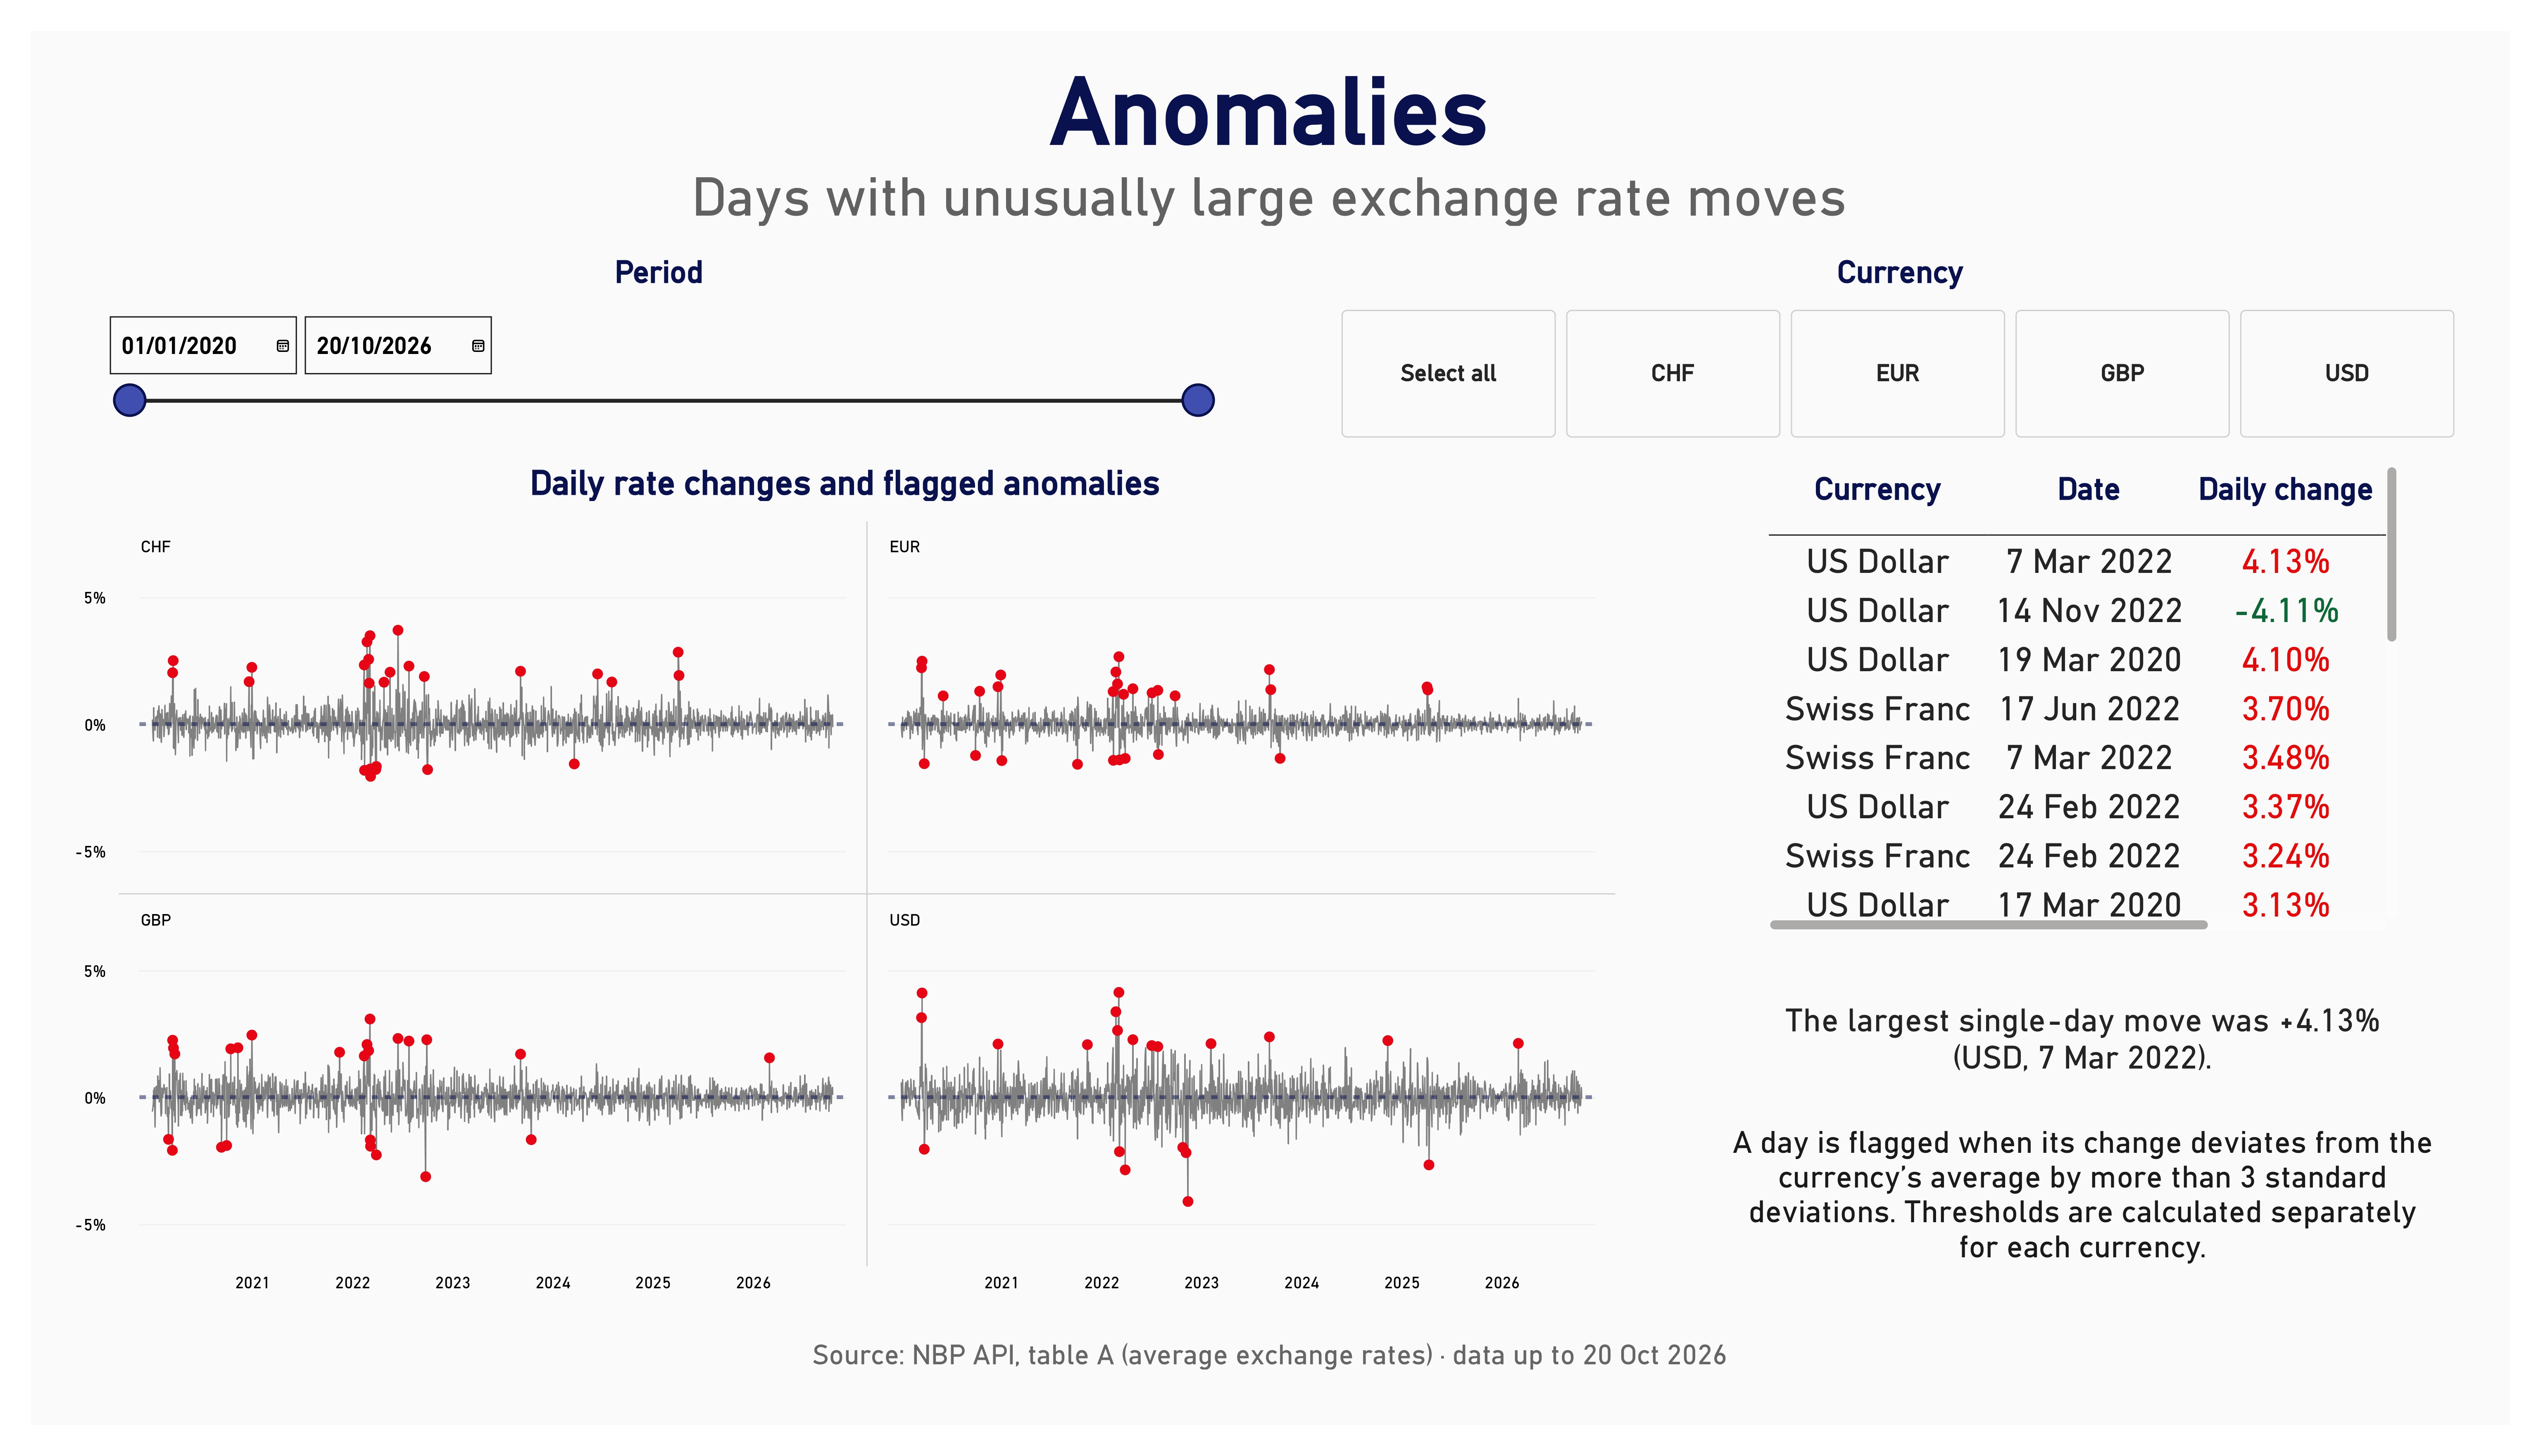

This screenshot's page, from the dashboard's own definition file:
{"tool":"powerbi","page":{"name":"Anomalies","canvas":[1920,1080],"ordinal":4},"visuals":[{"type":"lineChart","title":"Daily rate changes and flagged anomalies","fields":{"Category":["Calendar.Date"],"Rows":["Currencies.Currency"],"Y":[".Measures.Avg Daily Change",".Measures.Anomaly Change"]},"box":[17.3,320,1226.7,677.3],"z":0},{"type":"cardVisual","fields":{"Data":[".Measures.Source Line"]},"box":[470.7,997.3,977.3,54.7],"z":1000},{"type":"slicer","title":"Period","fields":{"Values":["Calendar.Date"]},"box":[53.3,173.3,866.7,141.3],"z":2000},{"type":"advancedSlicerVisual","title":"Currency","fields":{"Values":["Currencies.Currency"]},"box":[1014.7,173.3,866.7,141.3],"z":3000},{"type":"textbox","title":"Anomalies","box":[305.3,20,1308,141.3],"z":4000},{"type":"tableEx","fields":{"Values":["Currencies.CurrencyName","Calendar.Date",".Measures.Avg Daily Change",".Measures.Abs Daily Change"]},"box":[1329.3,322.7,520,390.7],"z":5000},{"type":"cardVisual","fields":{"Data":[".Measures.Largest Anomaly Text"]},"box":[1316,713.3,545.7,132.8],"z":6000},{"type":"textbox","box":[1316,846.7,546,150],"z":7000}]}

Visuals, with their boxes on the page's 1920x1080 design canvas (x1, y1, x2, y2). These are canvas units, not pixel positions in the 2541x1456 screenshot, which may show the page scaled, cropped or inside an application window:
"Daily rate changes and flagged anomalies" lineChart: (17, 320, 1244, 997)
cardVisual - .Measures.Source Line: (471, 997, 1448, 1052)
"Period" slicer: (53, 173, 920, 315)
"Currency" advancedSlicerVisual: (1015, 173, 1881, 315)
"Anomalies" textbox: (305, 20, 1613, 161)
tableEx - Currencies.CurrencyName x Calendar.Date: (1329, 323, 1849, 713)
cardVisual - .Measures.Largest Anomaly Text: (1316, 713, 1862, 846)
textbox: (1316, 847, 1862, 997)
